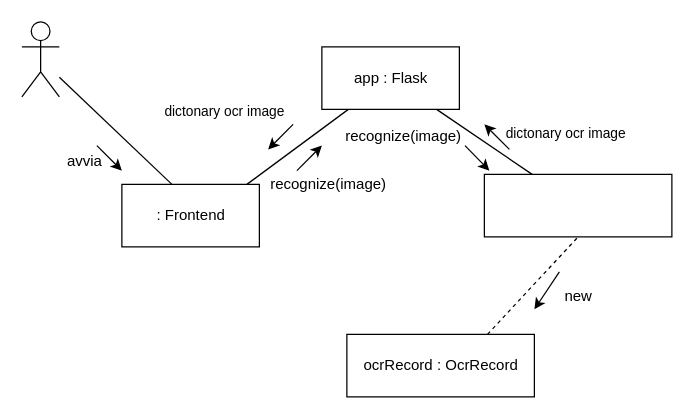
This 694x419 diagram has some shape labels left out. Each missing label, with the centre of its shape:
Client: (x=40, y=59)
detectron : Detectron: (x=577, y=205)
